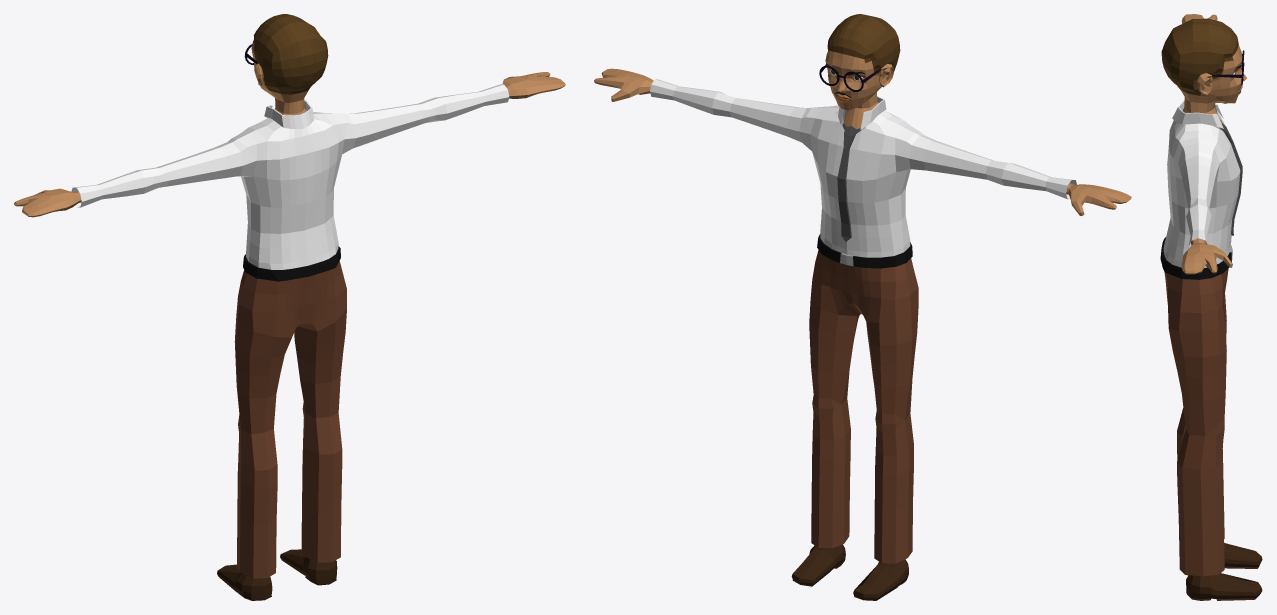
Rendered from Male_Teacher_Low_Poly.glb.
The picture shows the model from 3 angles, left to right: view 1: azimuth 30°, elevation 25°; view 2: azimuth 150°, elevation 25°; view 3: azimuth 270°, elevation 25°; orthographic projection. The views are drawn at different scales.
Parts seen in each view (by area): view 1: TeacherMale; view 2: TeacherMale; view 3: TeacherMale.
Boxes of the visible parts, x1,y1,x2,y2 form: TeacherMale: (14, 14, 565, 600); TeacherMale: (594, 14, 1131, 600); TeacherMale: (1160, 14, 1262, 600).
Size of the model in its own units: 0.9397 by 0.9445 by 0.1568.
Materials: 1 (1 with a texture image).
